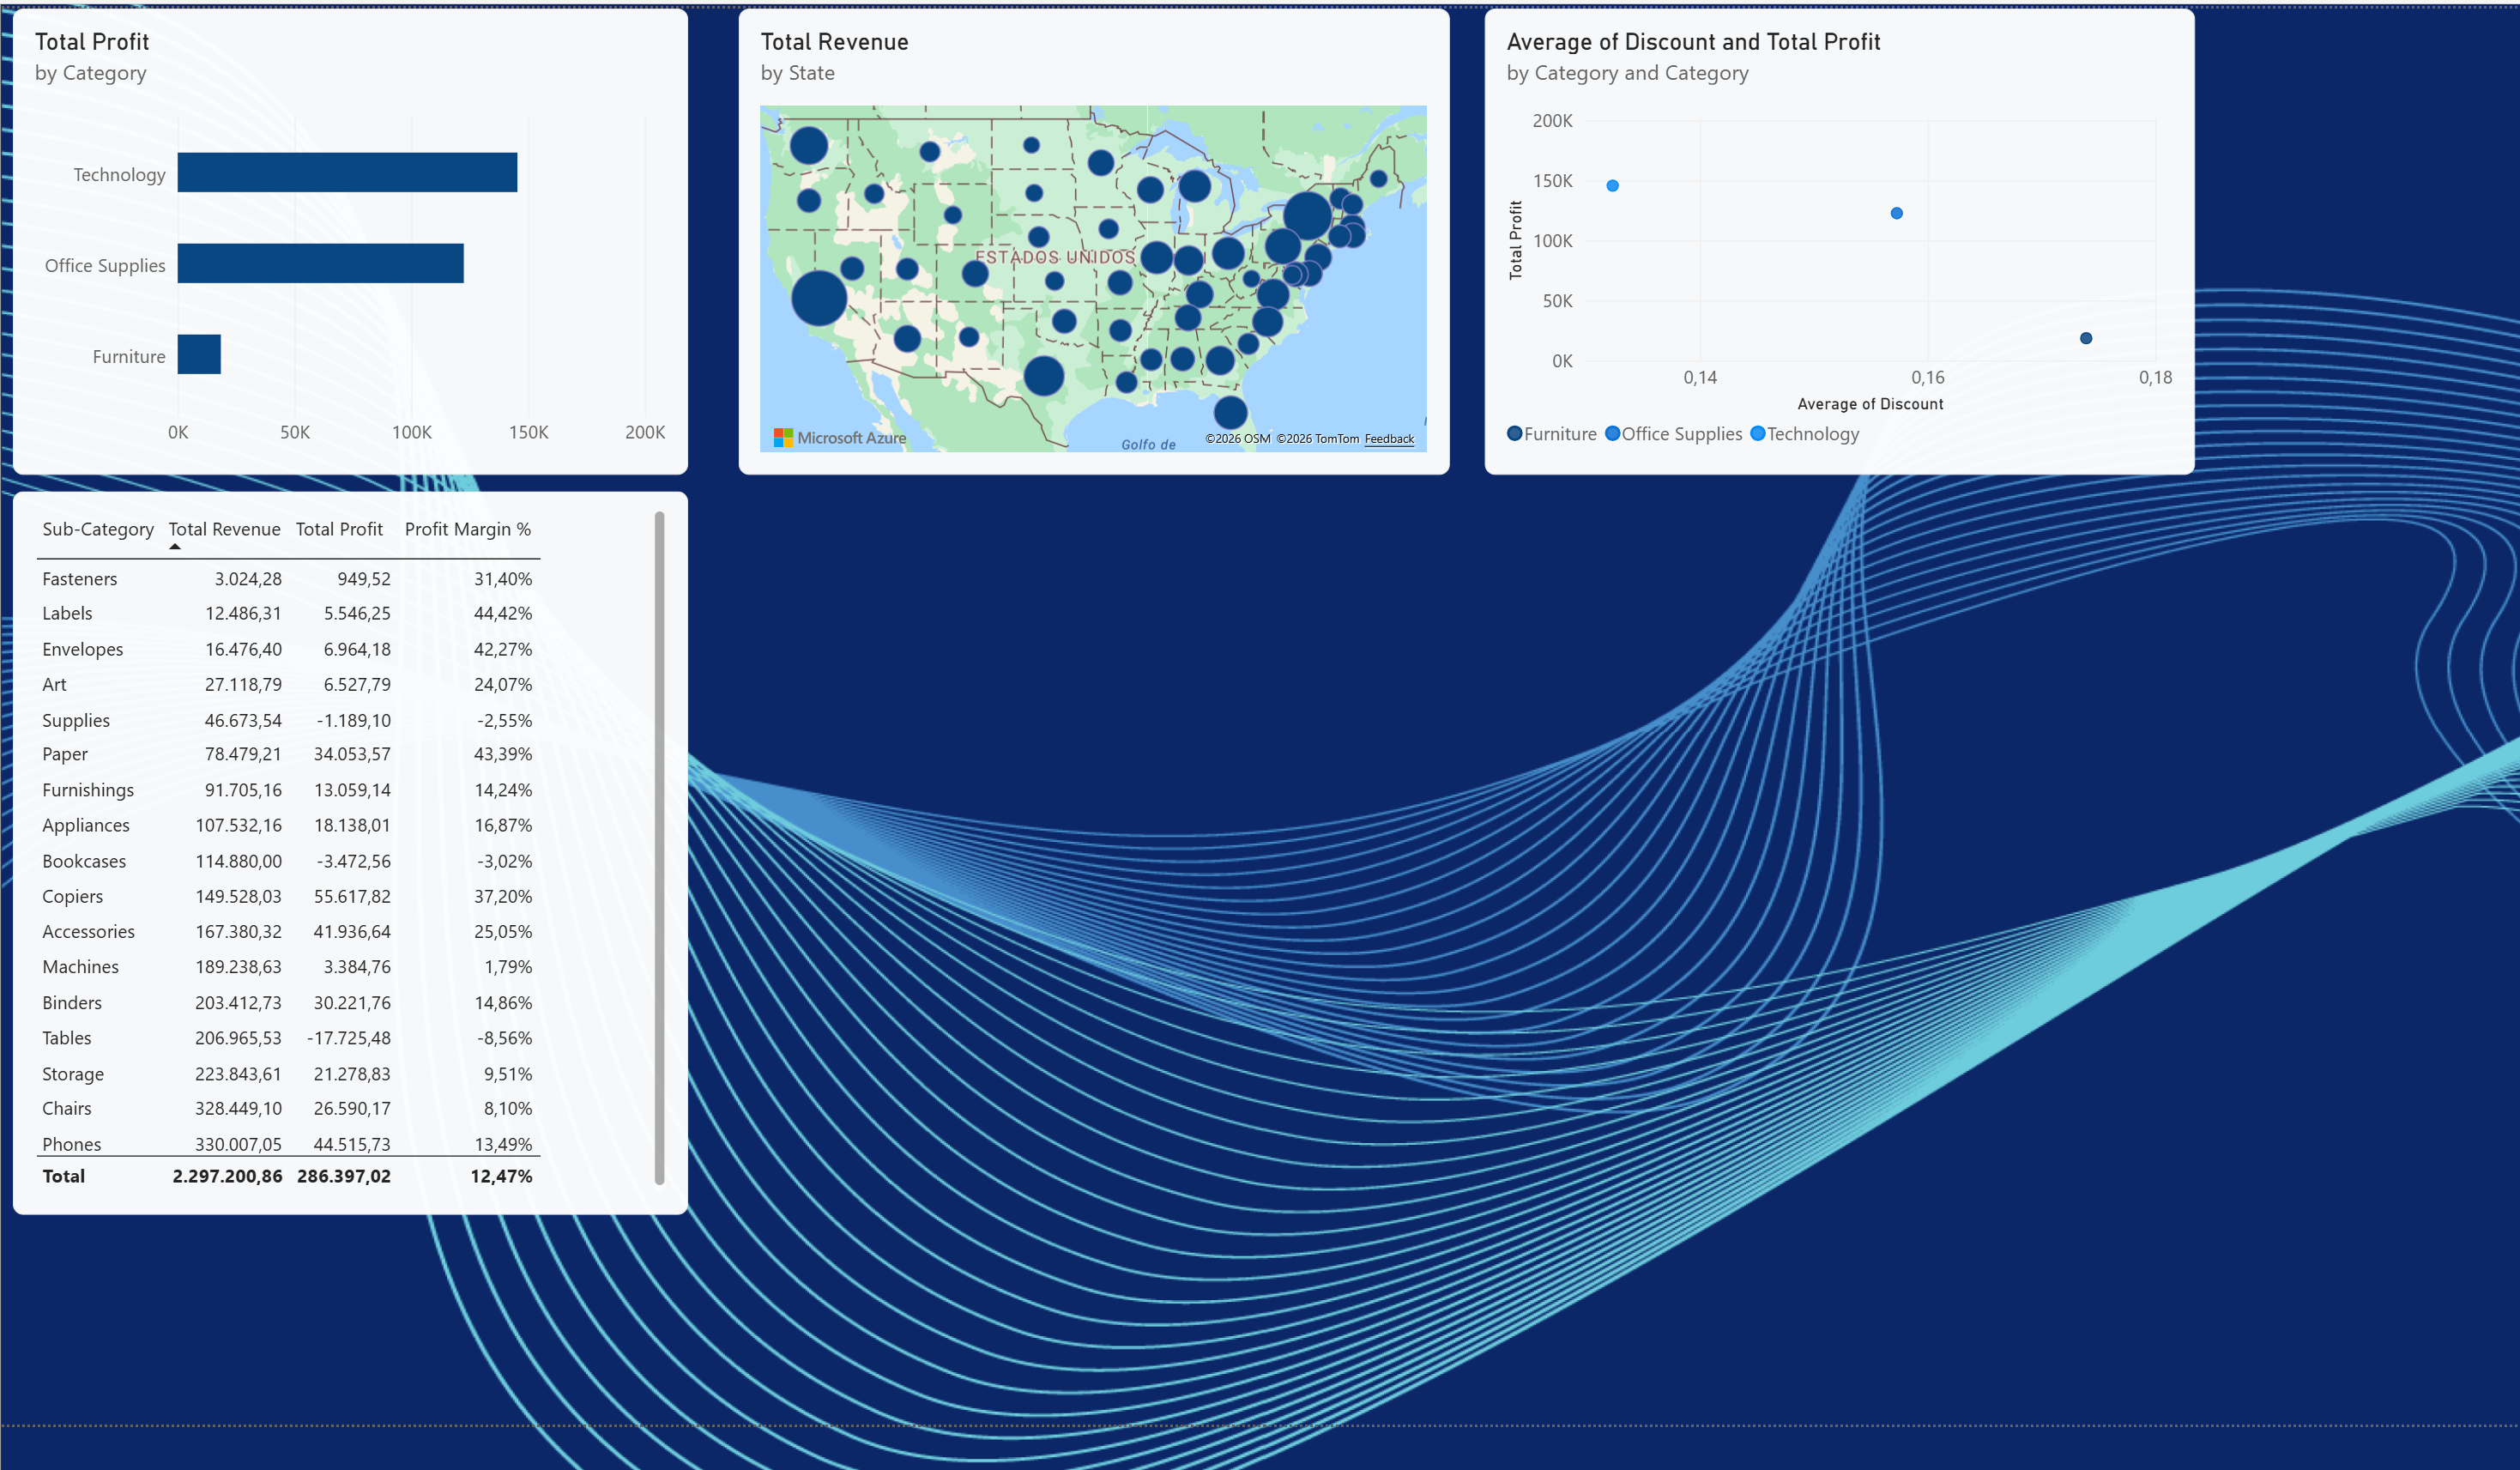

What the dashboard file says about the page in this screenshot:
{"tool":"powerbi","page":{"name":"Category & Region Analysis","canvas":[1920,1080],"ordinal":1},"visuals":[{"type":"clusteredBarChart","fields":{"Category":["Sample - Superstore csv.Category"],"Y":["Date Table.Total Profit"]},"box":[9.8,0,515,355.1],"z":0},{"type":"azureMap","fields":{"Category":["Sample - Superstore csv.State"],"Size":["Date Table.Total Revenue"]},"box":[563.1,0,541.5,355.1],"z":1},{"type":"scatterChart","fields":{"Category":["Sample - Superstore csv.Category"],"Series":["Sample - Superstore csv.Category"],"X":["Avg(Sample - Superstore csv.Discount)"],"Y":["Date Table.Total Profit"]},"box":[1131,0,541.5,355.1],"z":2},{"type":"tableEx","fields":{"Values":["Sample - Superstore csv.Sub-Category","Date Table.Total Revenue","Date Table.Total Profit","Date Table.Profit Margin %"]},"box":[9.8,367.8,515,552.3],"z":3}]}

Visuals, with their boxes on the page's 1920x1080 design canvas (x1, y1, x2, y2). These are canvas units, not pixel positions in the 2520x1470 screenshot, which may show the page scaled, cropped or inside an application window:
clusteredBarChart - Sample - Superstore csv.Category x Date Table.Total Profit: x1=10 y1=0 x2=525 y2=355
azureMap - Sample - Superstore csv.State x Date Table.Total Revenue: x1=563 y1=0 x2=1105 y2=355
scatterChart - Sample - Superstore csv.Category x Sample - Superstore csv.Category: x1=1131 y1=0 x2=1672 y2=355
tableEx - Sample - Superstore csv.Sub-Category x Date Table.Total Revenue: x1=10 y1=368 x2=525 y2=920
